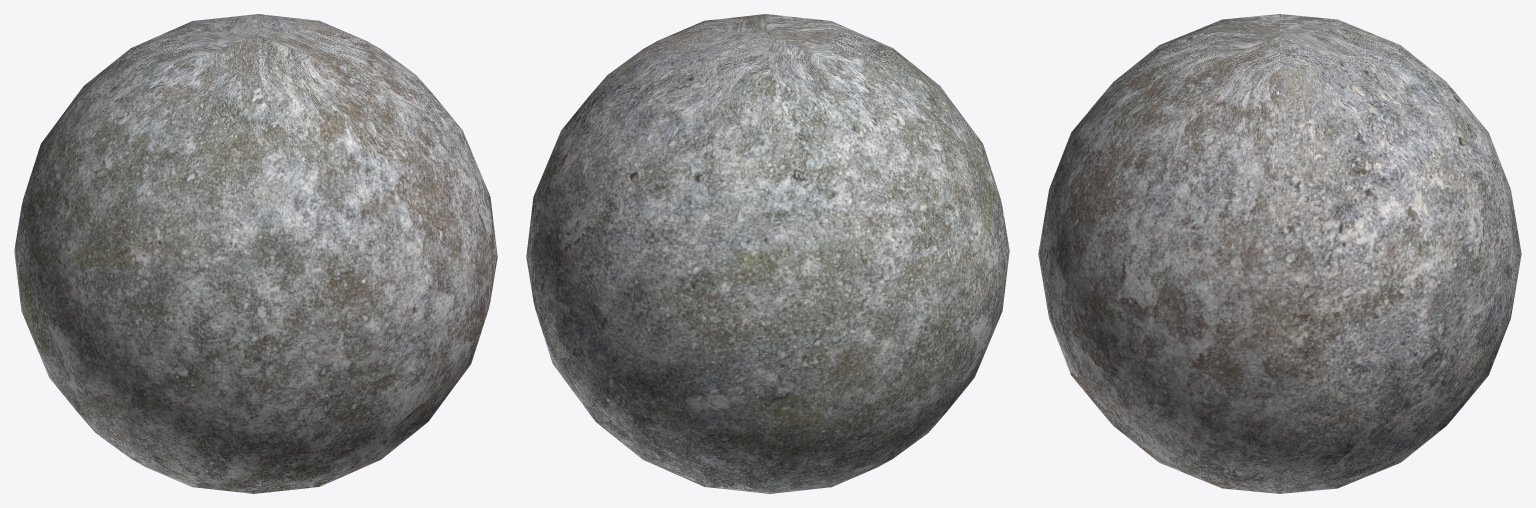
The model's file is moon_k_d.fbx.
3 views of the same model, side by side, from view 1: azimuth 30°, elevation 25°; view 2: azimuth 150°, elevation 25°; view 3: azimuth 270°, elevation 25° (orthographic).
Visible parts, largest first — view 1: moon_k_d; view 2: moon_k_d; view 3: moon_k_d.
Boxes of the visible parts, left/top/right/bottom form: moon_k_d: left=14, top=14, right=497, bottom=493; moon_k_d: left=526, top=14, right=1009, bottom=493; moon_k_d: left=1038, top=14, right=1521, bottom=493.
Bounding box in the file's own units: 100 × 100 × 100.
Materials: 1 (1 with a texture image).
